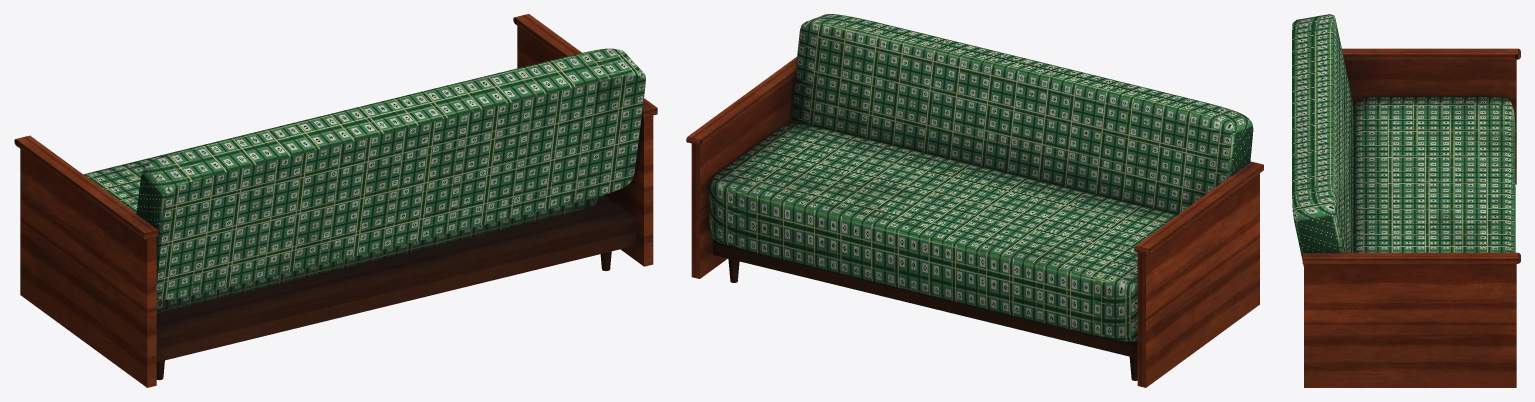
File: sofa_book_check_web.glb
The picture shows the model from 3 angles, left to right: view 1: azimuth 30°, elevation 25°; view 2: azimuth 150°, elevation 25°; view 3: azimuth 270°, elevation 25°; orthographic projection. The views are drawn at different scales.
Parts seen in each view (by area): view 1: SofaBookCheck_Body; view 2: SofaBookCheck_Body; view 3: SofaBookCheck_Body.
Part boxes in pixels (bbox=[...]): SofaBookCheck_Body: bbox=[14, 14, 657, 387]; SofaBookCheck_Body: bbox=[686, 14, 1263, 387]; SofaBookCheck_Body: bbox=[1292, 14, 1520, 387].
Bounding box in the file's own units: 2.01 × 0.8338 × 0.9251.
1 material, 1 textured.
